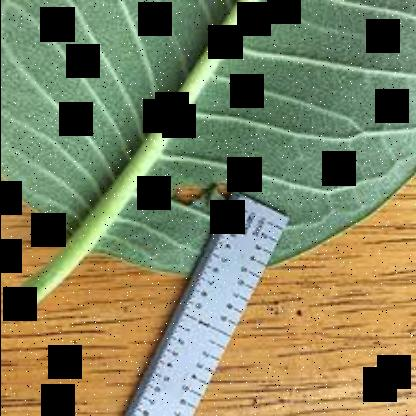agujero: (171, 183, 233, 201)
